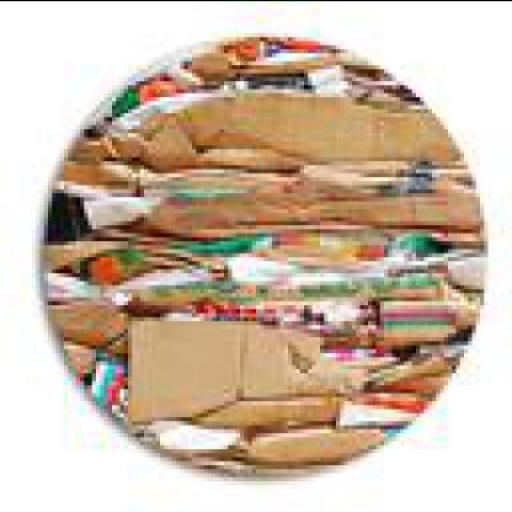cardboard: (48, 228, 484, 312), (144, 156, 489, 228), (192, 88, 473, 168), (132, 308, 328, 420), (232, 48, 424, 92), (332, 300, 476, 344), (60, 156, 152, 224), (76, 108, 204, 156), (336, 344, 464, 388), (236, 420, 392, 456), (116, 55, 212, 112), (208, 388, 348, 424), (56, 292, 132, 352), (72, 335, 132, 408), (340, 380, 432, 424), (224, 32, 345, 60), (148, 416, 236, 452), (48, 183, 100, 240), (184, 452, 328, 468), (192, 44, 244, 80)
